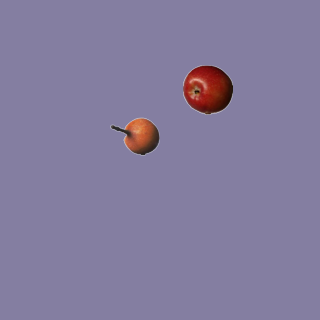Apple Braeburn: (182, 64, 232, 114)
Granadilla: (109, 111, 159, 161)
